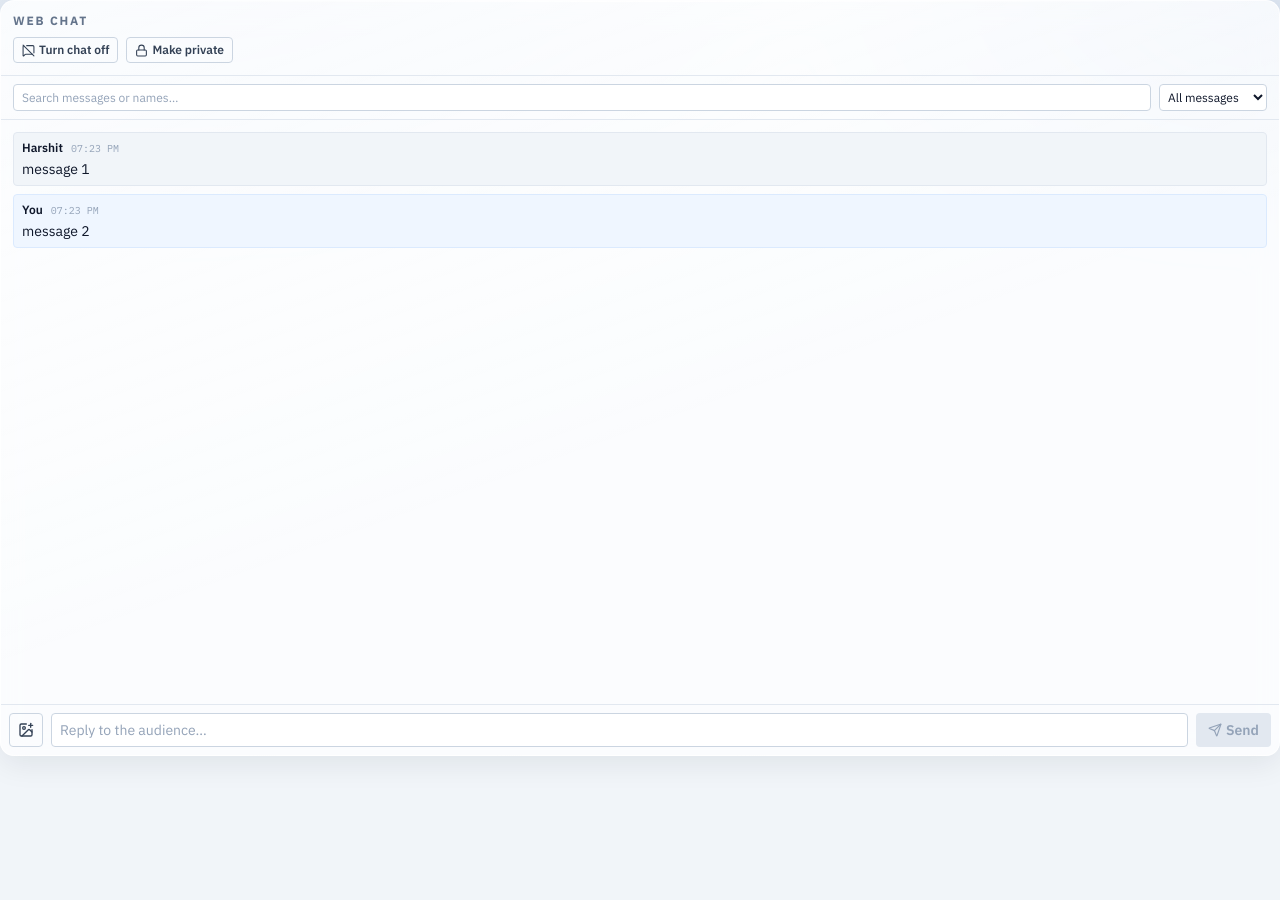
the filter picks out one kind of message
Select "From the host" in the dropdown with test id "chat-filter" at (1213, 98), box left=1159, top=84, right=1267, bottom=111
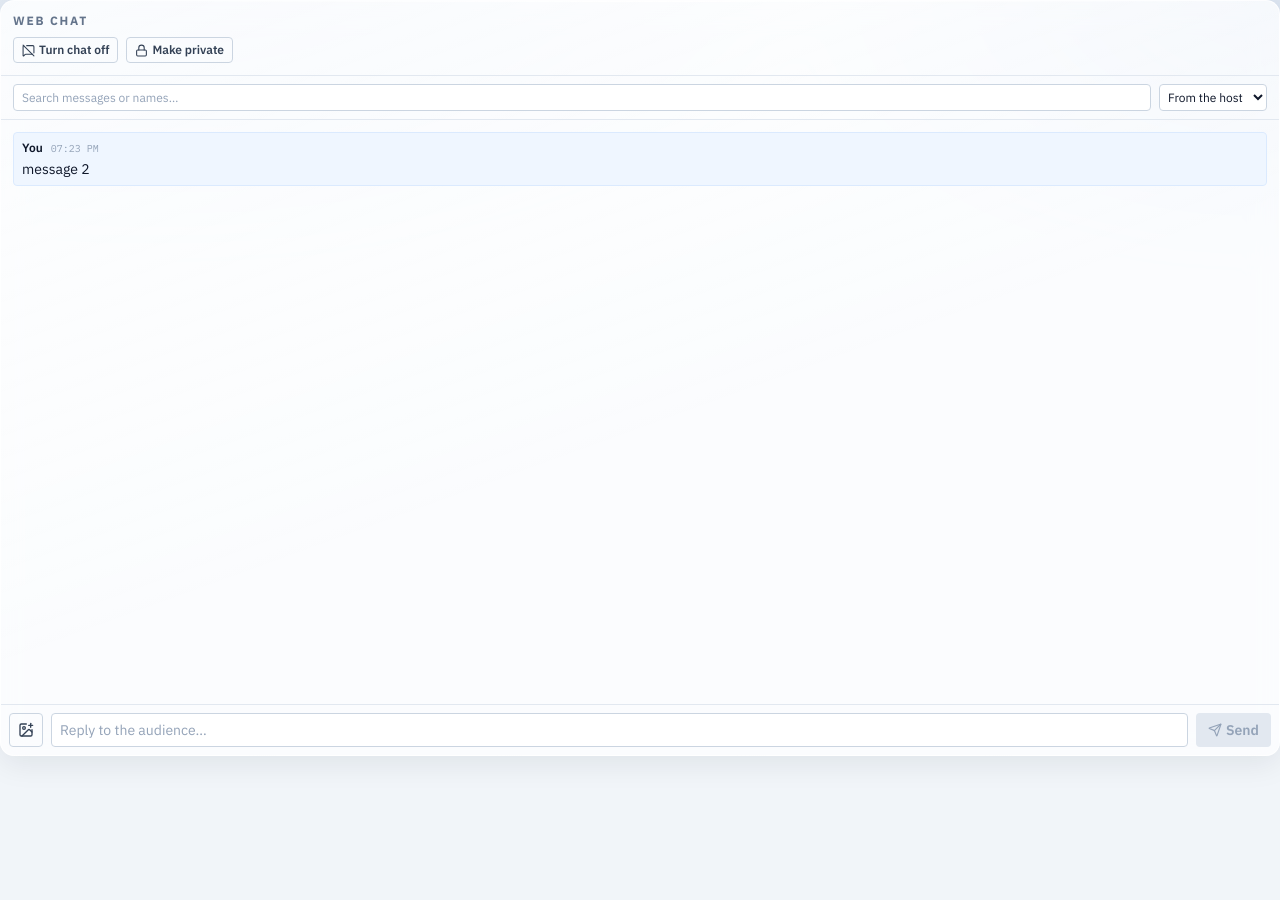
Check: the element with test id "chat-message-2" is shown, box left=13, top=132, right=1267, bottom=186
Check: the element with test id "chat-message-1" is gone
